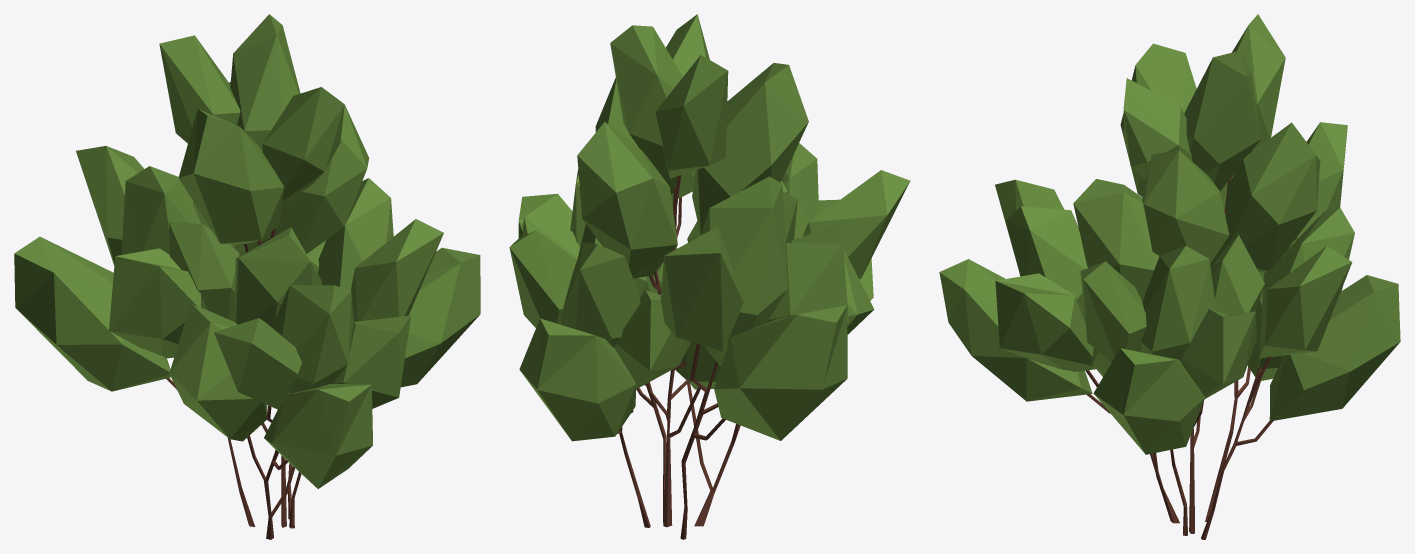
File: mountain_ash_2.fbx
3 views of the same model, side by side, from view 1: azimuth 30°, elevation 25°; view 2: azimuth 150°, elevation 25°; view 3: azimuth 270°, elevation 25° (orthographic). The views are drawn at different scales.
Visible parts, largest first — view 1: mountain_ash_2; view 2: mountain_ash_2; view 3: mountain_ash_2.
Boxes of the visible parts, x1=… form: mountain_ash_2: x1=14, y1=14, x2=480, y2=539; mountain_ash_2: x1=509, y1=14, x2=910, y2=539; mountain_ash_2: x1=939, y1=14, x2=1400, y2=539.
Bounding box in the file's own units: 333 × 410 × 352.
